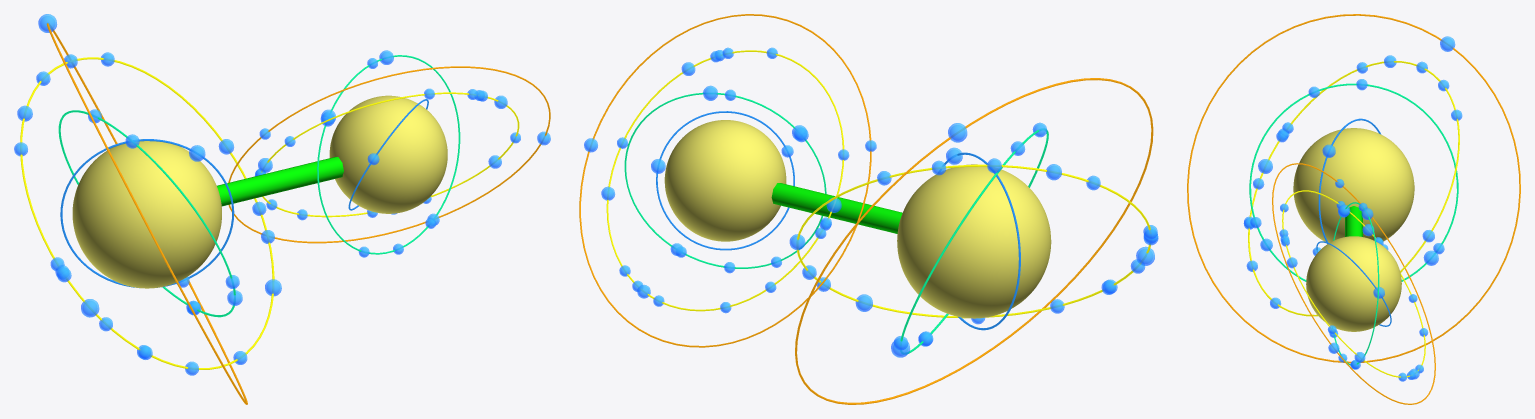
File: CuZn.glb
The picture shows the model from 3 angles, left to right: view 1: azimuth 30°, elevation 25°; view 2: azimuth 150°, elevation 25°; view 3: azimuth 270°, elevation 25°; orthographic projection. The views are drawn at different scales.
Parts seen in each view (by area): view 1: Cu, Zn, object 129, object 24, object 61, object 124, object 2, object 70, object 7, object 87; view 2: Cu, Zn, object 61, object 129, object 124, object 24, object 87, object 70, object 7, object 65, object 2; view 3: Cu, Zn, object 61, object 24, object 7, object 124, object 87, object 129, object 70, object 2.
Part boxes in pixels (bbox=[...]): Cu: bbox=[72, 139, 221, 288]; Zn: bbox=[329, 95, 447, 213]; object 129: bbox=[217, 157, 343, 206]; object 24: bbox=[20, 57, 274, 369]; object 61: bbox=[46, 23, 247, 404]; object 124: bbox=[228, 66, 550, 243]; object 2: bbox=[60, 139, 234, 288]; object 70: bbox=[317, 55, 460, 254]; object 7: bbox=[58, 110, 235, 317]; object 87: bbox=[261, 92, 519, 217]; Cu: bbox=[897, 164, 1051, 318]; Zn: bbox=[664, 120, 786, 241]; object 61: bbox=[795, 78, 1153, 404]; object 129: bbox=[771, 183, 902, 233]; object 124: bbox=[579, 14, 871, 347]; object 24: bbox=[797, 164, 1150, 318]; object 87: bbox=[606, 50, 844, 311]; object 70: bbox=[624, 92, 826, 268]; object 7: bbox=[900, 129, 1048, 354]; object 65: bbox=[656, 111, 794, 250]; object 2: bbox=[943, 152, 1020, 330]; Cu: bbox=[1293, 128, 1414, 242]; Zn: bbox=[1306, 236, 1401, 331]; object 61: bbox=[1187, 14, 1520, 363]; object 24: bbox=[1248, 61, 1459, 316]; object 7: bbox=[1249, 83, 1458, 281]; object 124: bbox=[1272, 163, 1435, 404]; object 87: bbox=[1282, 190, 1425, 377]; object 129: bbox=[1345, 206, 1362, 236]; object 70: bbox=[1333, 202, 1379, 365]; object 2: bbox=[1318, 118, 1381, 243].
Size of the model in its own units: 10.92 by 6.99 by 7.4.
